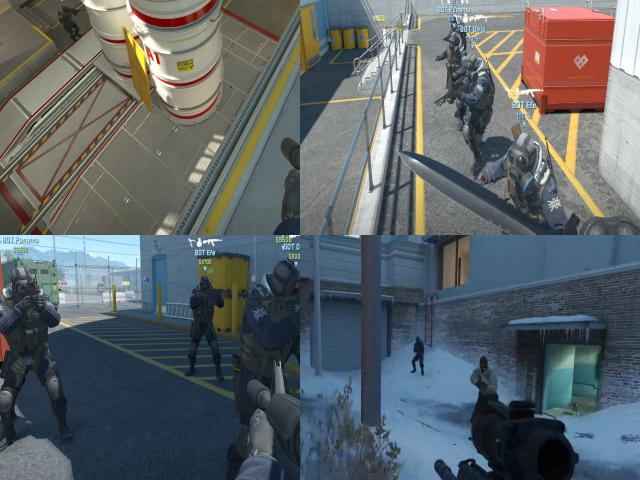CT: (245, 259, 296, 464), (2, 265, 52, 435), (502, 134, 558, 235), (467, 54, 494, 163), (193, 276, 217, 376), (287, 264, 300, 398), (450, 37, 466, 118), (58, 0, 75, 45), (410, 332, 427, 372), (447, 13, 466, 47)
CT-Head: (510, 133, 538, 178), (268, 261, 294, 300), (12, 267, 31, 297), (464, 55, 478, 76), (448, 34, 460, 49), (199, 277, 210, 291), (414, 334, 422, 348), (452, 15, 460, 28), (61, 2, 69, 14), (296, 271, 300, 291)
T: (472, 352, 496, 396)
T-Head: (474, 352, 493, 379)
